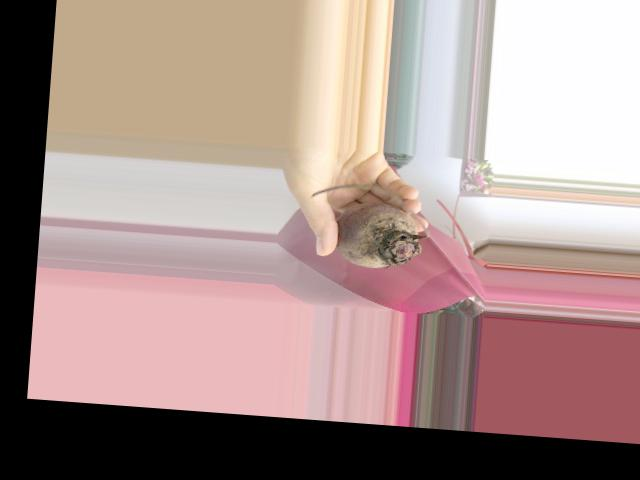beet: (306, 181, 434, 271)
